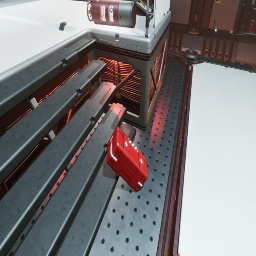EmergencyPhone ,: (214, 0, 221, 3)
FirstAidBox ,: (106, 126, 148, 192)
NitrogenTank ,: (87, 0, 136, 28)
